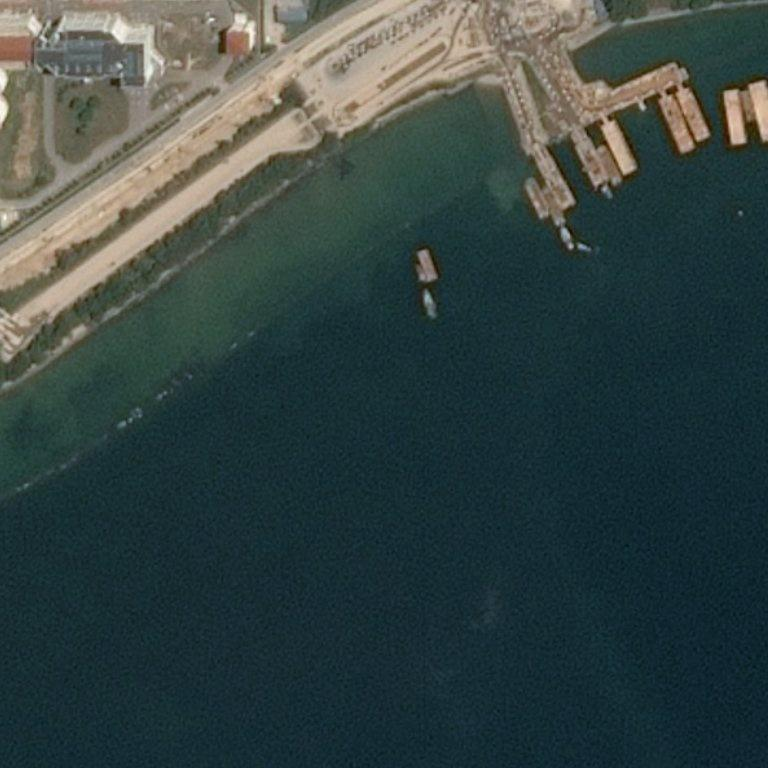ship: (562, 225, 575, 251), (1, 290, 15, 314)
